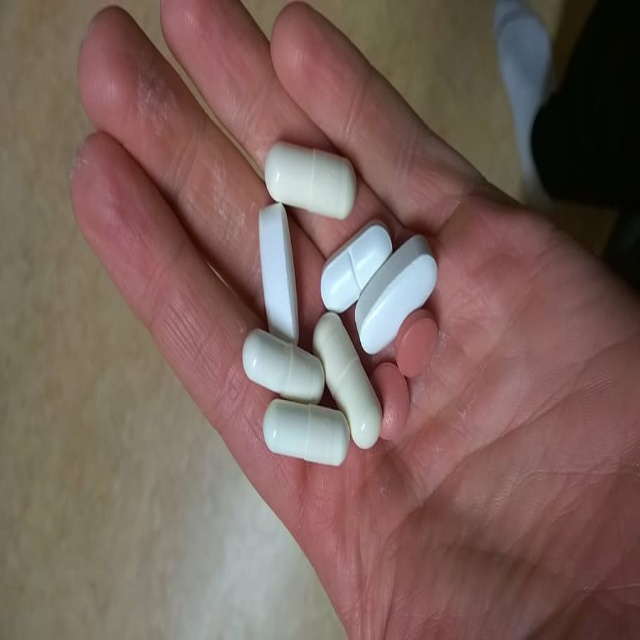pill: (504, 186, 625, 285), (448, 249, 541, 354), (377, 110, 506, 173), (454, 179, 555, 251), (368, 162, 427, 279), (375, 319, 498, 374), (344, 263, 462, 320), (524, 288, 581, 355), (560, 248, 625, 299)
